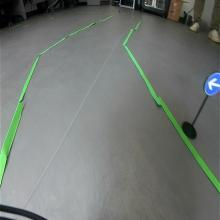left: (203, 71, 220, 96)
